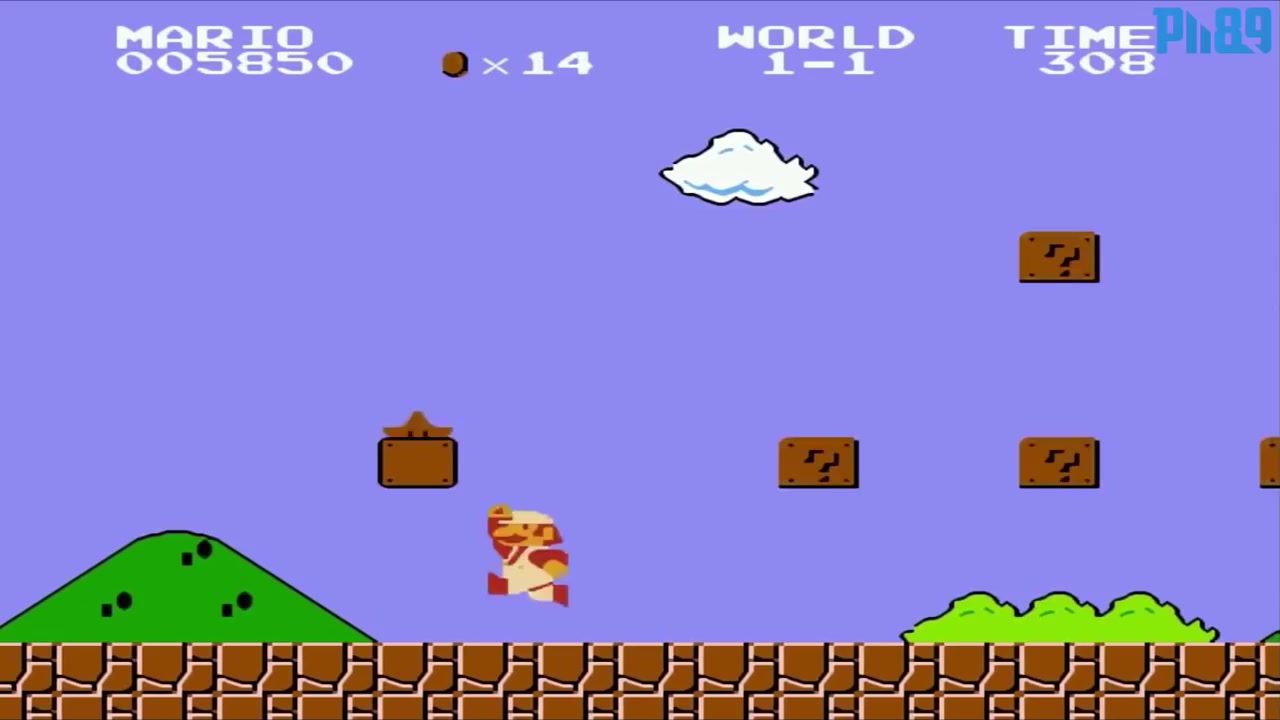mario: (477, 501, 577, 611)
